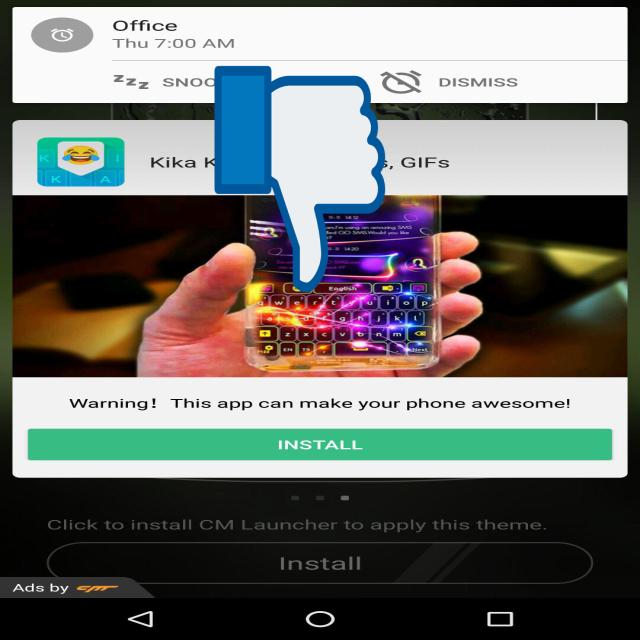obstruction: (215, 61, 385, 297)
